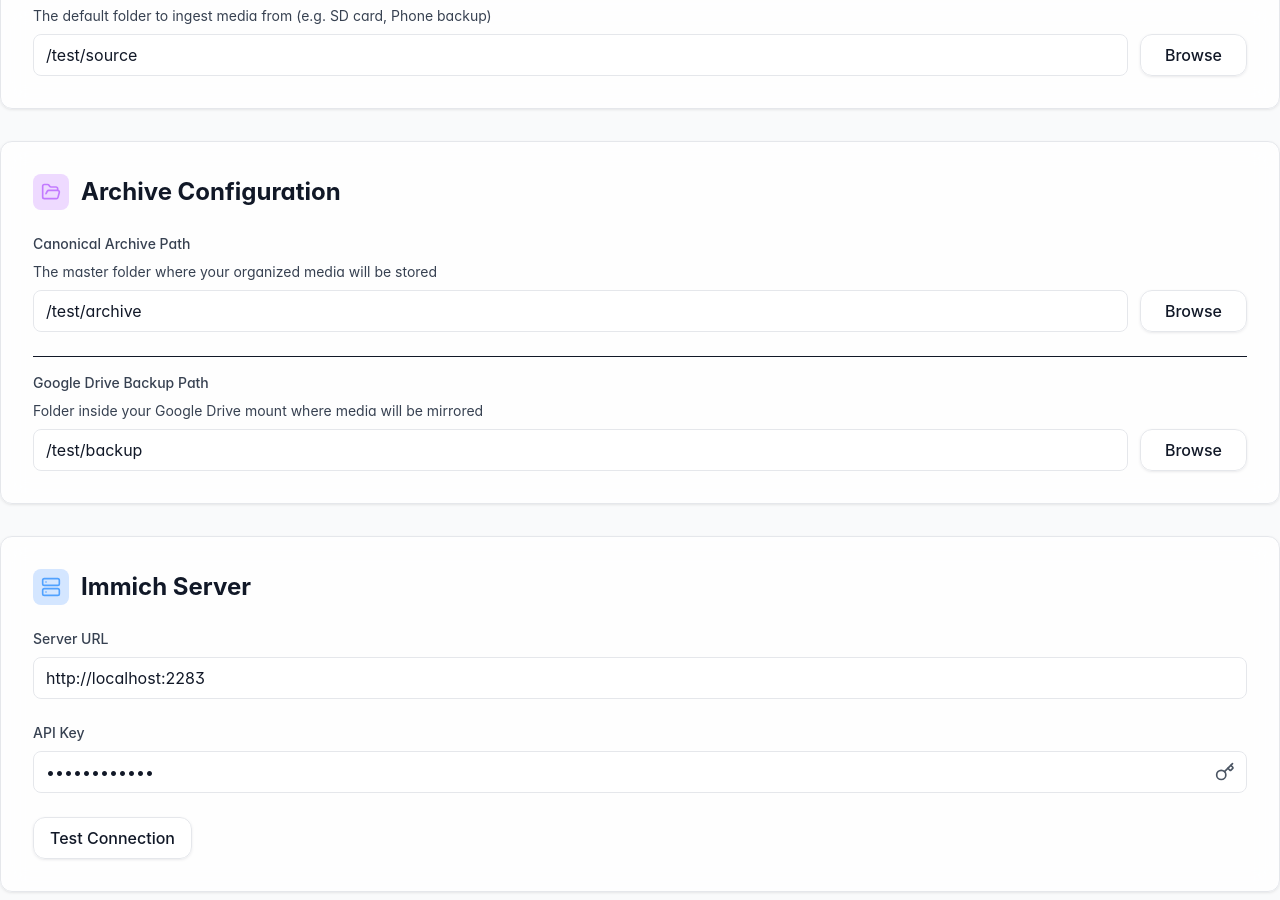
Scenario: Settings › Form Interactions › allows browsing for Google Drive backup path
(page scrolled)
Expected: the field showing "/test/backup" below "Google Drive Backup Path" is shown, [33, 429, 1128, 471]
Click the 3rd button "Browse" at [1193, 450], box [1140, 429, 1247, 471]
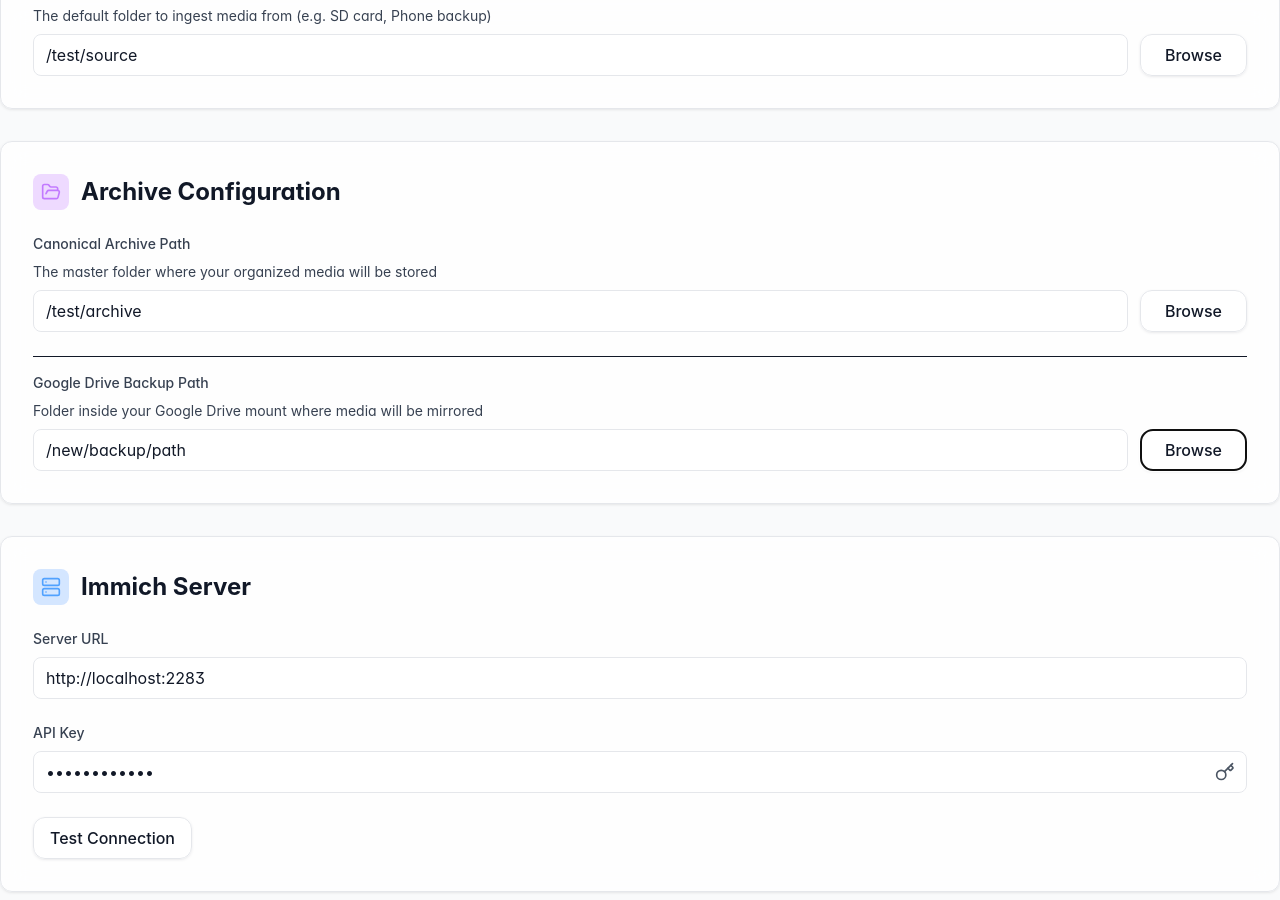
Expected: the field showing "/new/backup/path" below "Google Drive Backup Path" is shown, [33, 429, 1128, 471]
